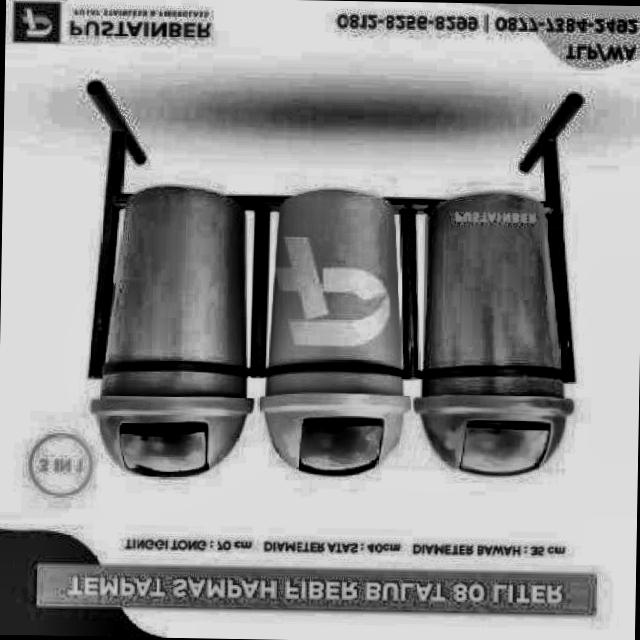Dustbin: (82, 173, 263, 484), (410, 175, 581, 494), (250, 183, 414, 489)
